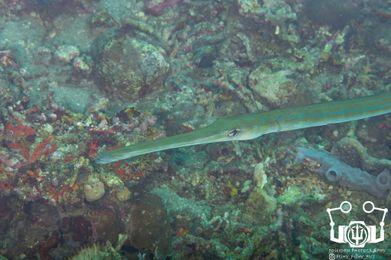Fistularia commersonii: (93, 86, 390, 166)
